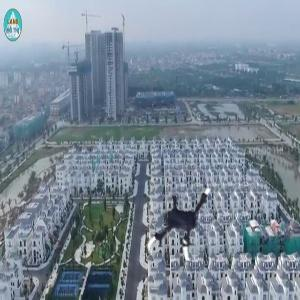drone: (139, 182, 233, 276)
